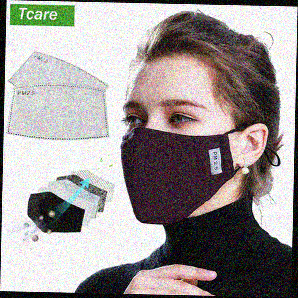with_mask: (119, 96, 237, 229)
